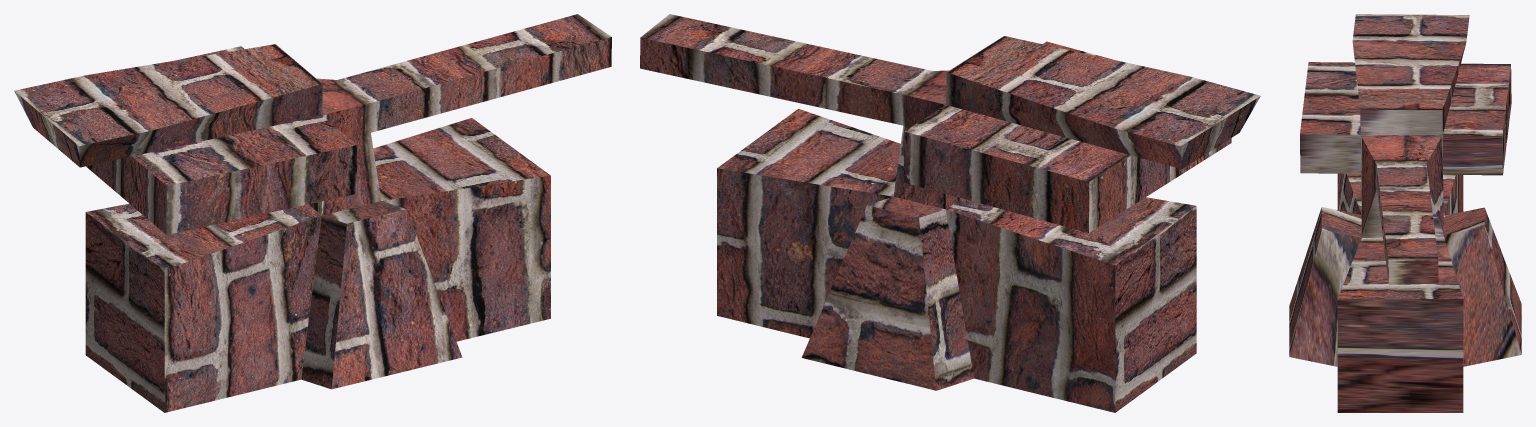
The model's file is randomModel.fbx.
The picture shows the model from 3 angles, left to right: view 1: azimuth 30°, elevation 25°; view 2: azimuth 150°, elevation 25°; view 3: azimuth 270°, elevation 25°; orthographic projection. The views are drawn at different scales.
Visible parts, largest first — view 1: Cube; view 2: Cube; view 3: Cube.
Boxes of the visible parts, x1,y1,x2,y2 form: Cube: [14, 14, 611, 412]; Cube: [640, 14, 1260, 412]; Cube: [1289, 14, 1521, 412].
Size of the model in its own units: 809 by 388 by 369.
Materials: 1 (1 with a texture image).
